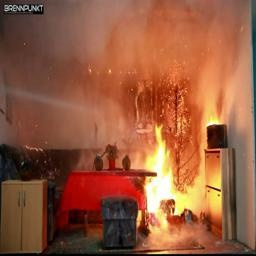fire: (132, 117, 190, 221)
smoke: (43, 5, 147, 109)
